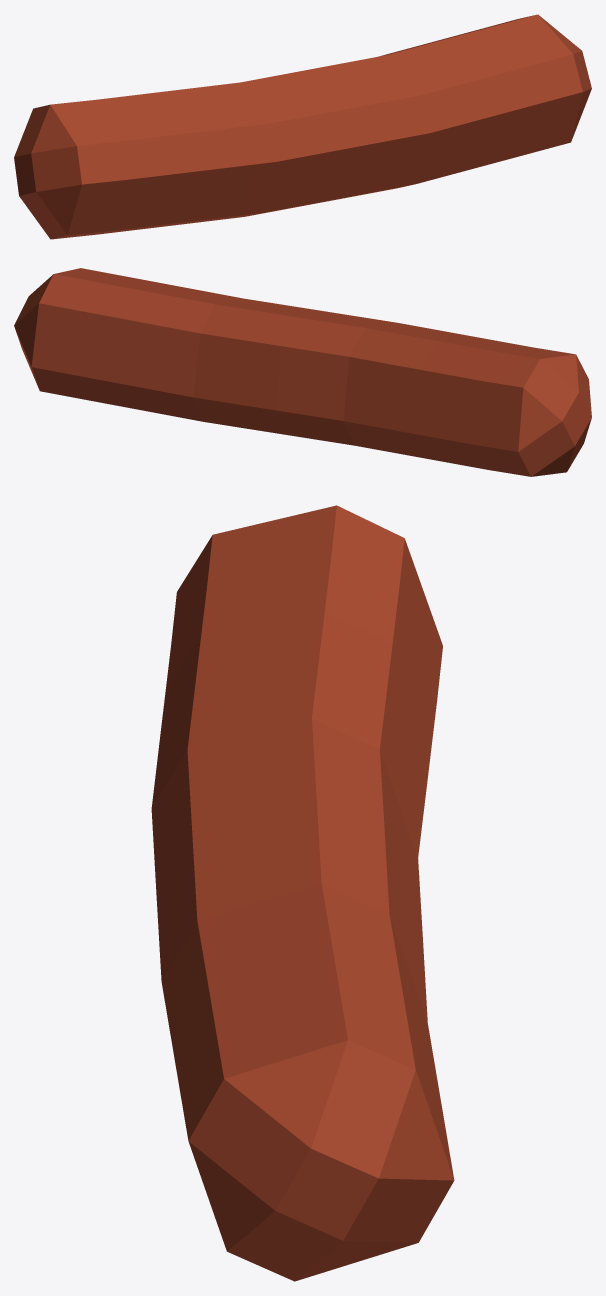
The model's file is Log2.fbx.
The picture shows the model from 3 angles, top to bottom: view 1: azimuth 30°, elevation 25°; view 2: azimuth 150°, elevation 25°; view 3: azimuth 270°, elevation 25°; orthographic projection. The views are drawn at different scales.
Visible parts, largest first — view 1: Vert; view 2: Vert; view 3: Vert.
Boxes of the visible parts, <box> form: Vert: <box>14,14,591,239</box>; Vert: <box>14,268,591,476</box>; Vert: <box>151,505,454,1281</box>.
Size of the model in its own units: 174 by 45.75 by 41.28.
